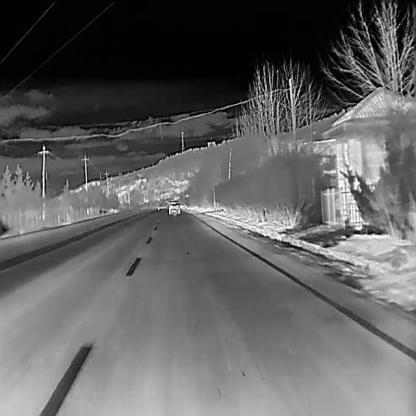car: (169, 199, 180, 215)
